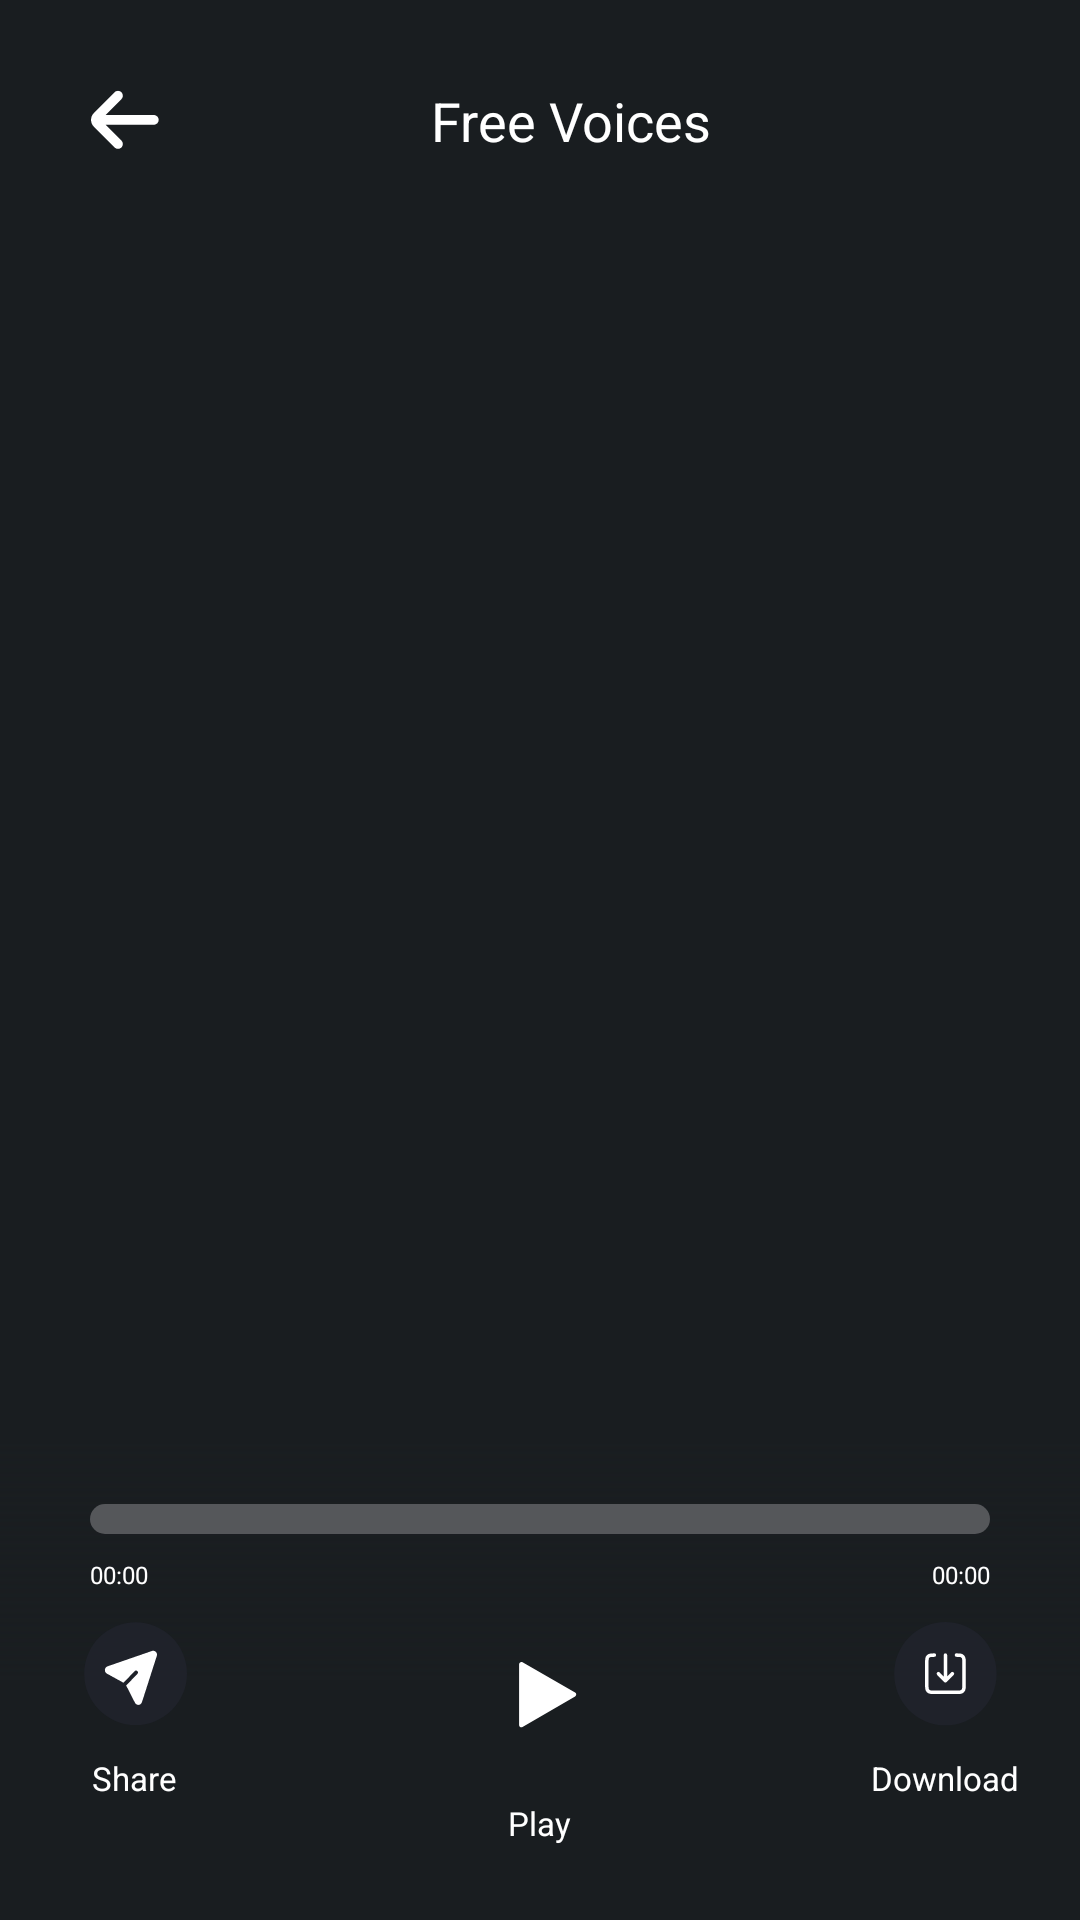

Locate icon controls on the screen. Image size 1080*1920, boxes as (x1, y1, x2, y2).
backicon: (91, 91, 159, 149)
